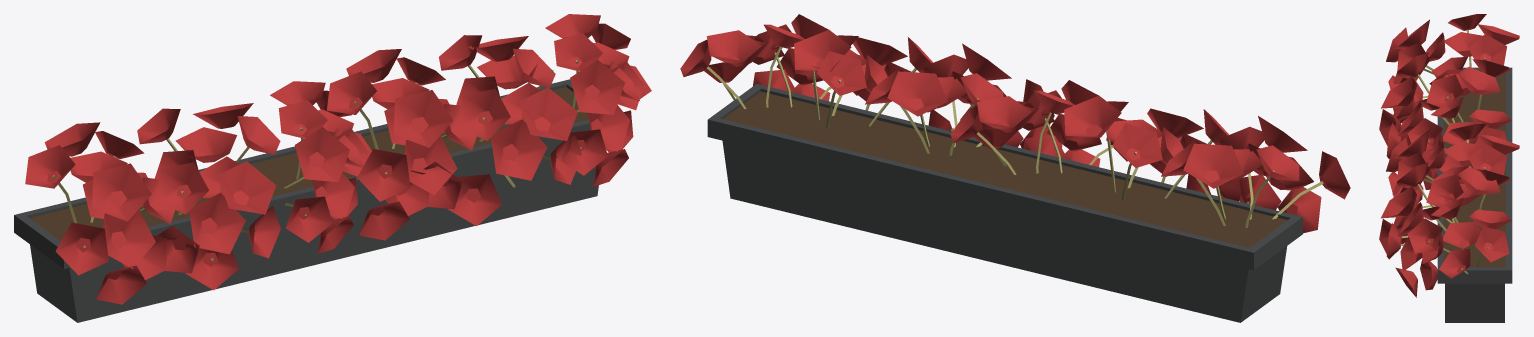
The model's file is SM_flowerbox_small_04.fbx.
3 renders of one model, left to right at view 1: azimuth 30°, elevation 25°; view 2: azimuth 150°, elevation 25°; view 3: azimuth 270°, elevation 25°, orthographic. The views are drawn at different scales.
Parts seen in each view (by area): view 1: Box167; view 2: Box167; view 3: Box167.
Boxes of the visible parts, x1,y1,x2,y2 form: Box167: [14, 14, 651, 322]; Box167: [680, 14, 1350, 322]; Box167: [1379, 14, 1519, 322].
Bounding box in the file's own units: 54.33 × 14.14 × 13.72.
